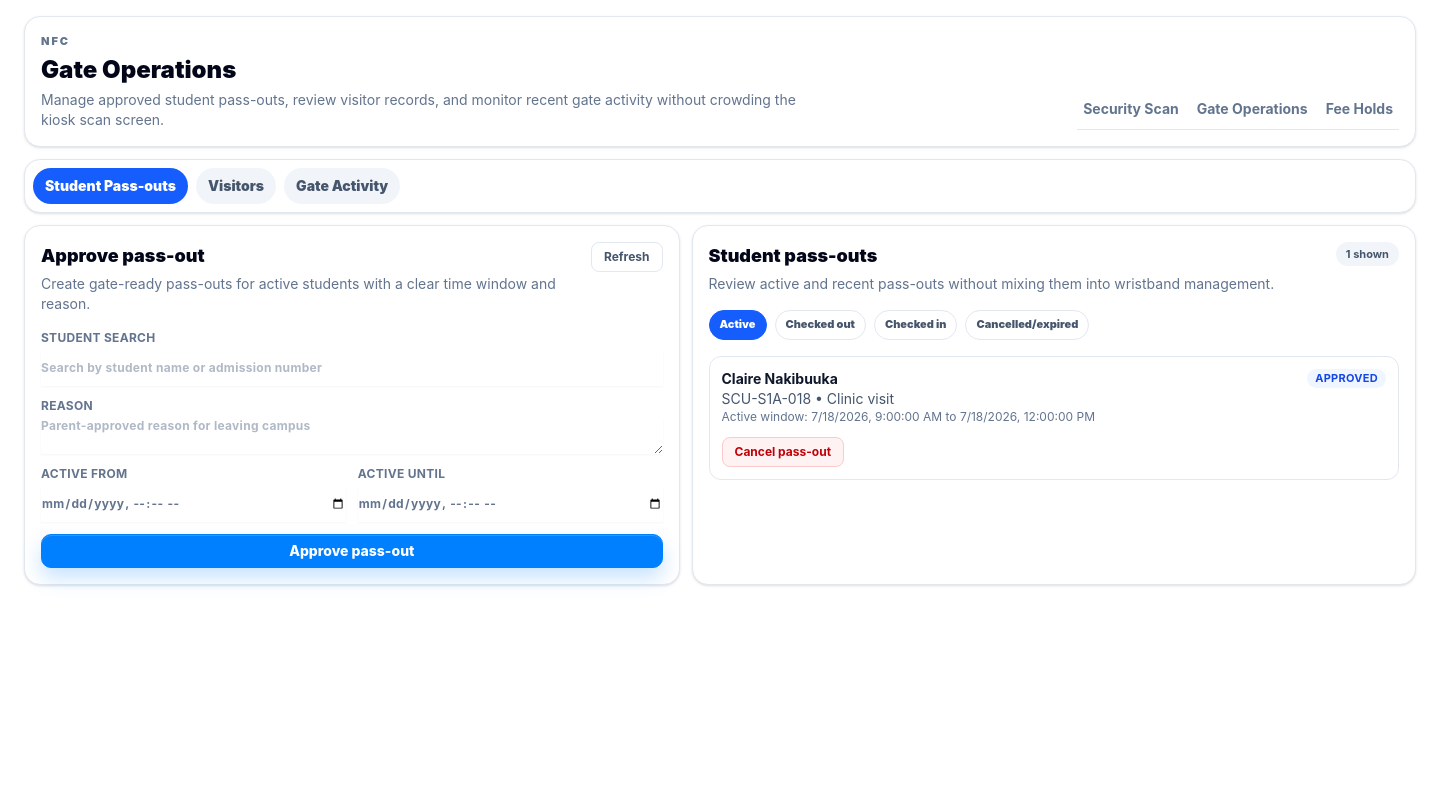
Test: NfcGateOperationsPage › shows gate activity entries in the activity tab
Expected: the heading "Gate Operations" is shown, [41,54,236,84]
Click the button "Gate Activity": (342, 186) [284,168,400,204]
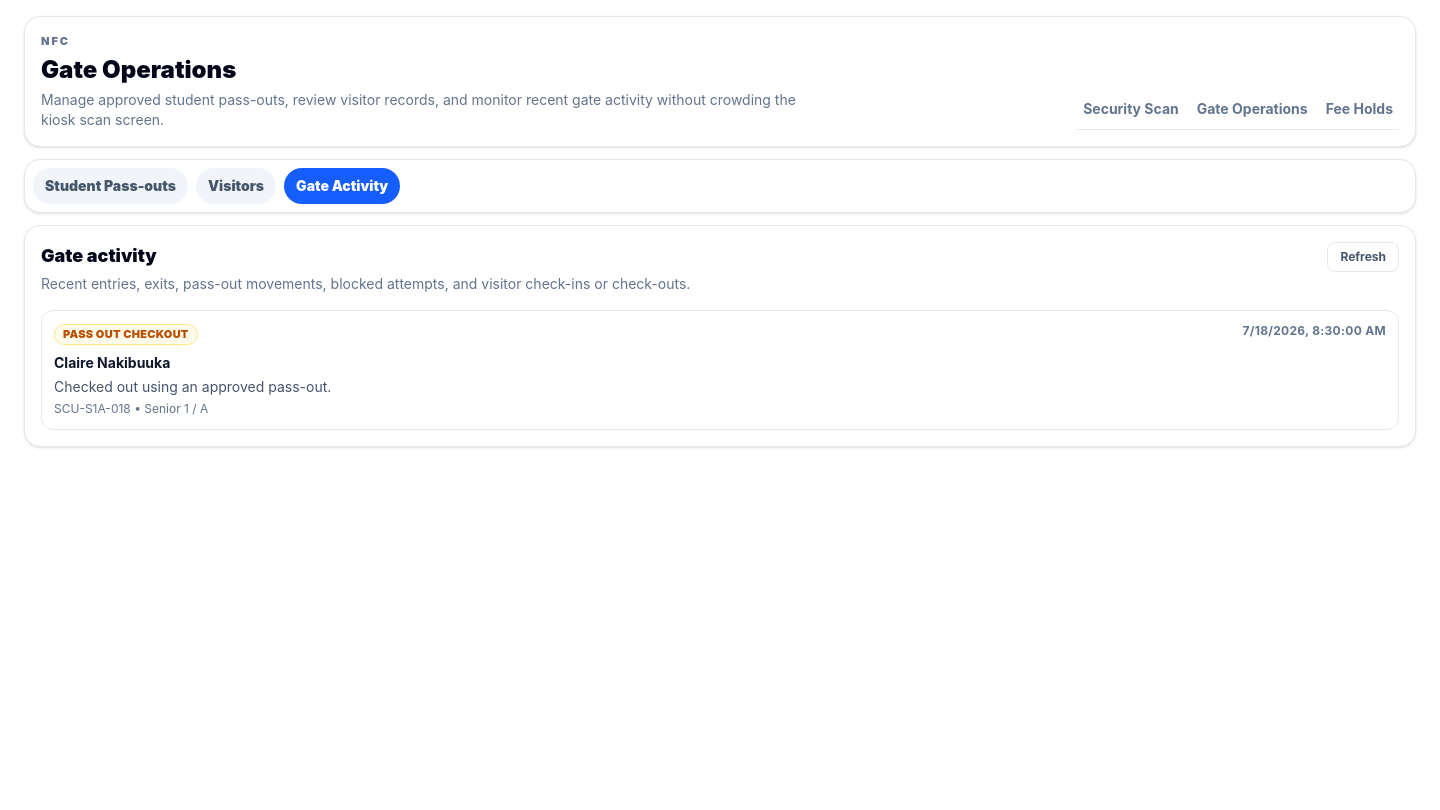
Expected: the text "Claire Nakibuuka" is shown, [54,354,170,371]
Result: the text "PASS OUT CHECKOUT" is shown at [54,324,198,345]
